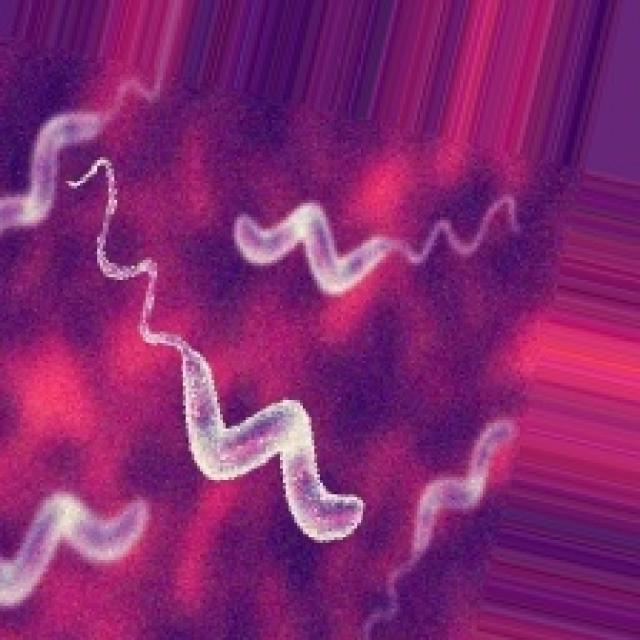Spiral_bacteria: (63, 151, 366, 543)
